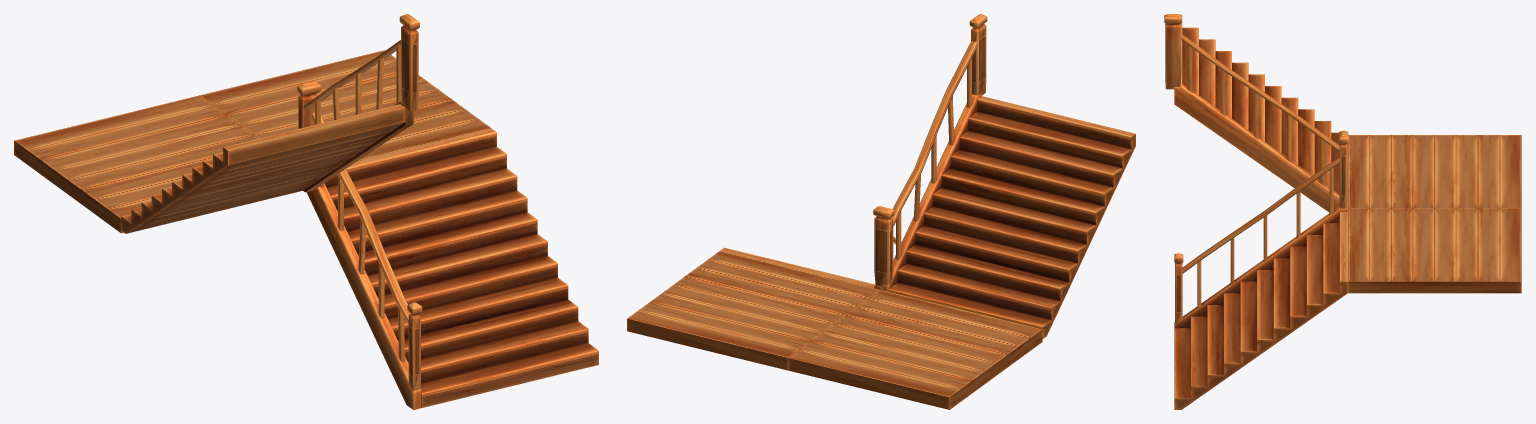
The model's file is PropStairs01TypeA.FBX.
3 views of the same model, side by side, from view 1: azimuth 30°, elevation 25°; view 2: azimuth 150°, elevation 25°; view 3: azimuth 270°, elevation 25° (orthographic). The views are drawn at different scales.
Parts seen in each view (by area): view 1: PropStairs01TypeA; view 2: PropStairs01TypeA; view 3: PropStairs01TypeA.
Part boxes in pixels (x1=…): PropStairs01TypeA: x1=14, y1=14, x2=598, y2=409; PropStairs01TypeA: x1=627, y1=14, x2=1135, y2=409; PropStairs01TypeA: x1=1164, y1=14, x2=1521, y2=409.
Size of what is drawn, in the model's own units: 4.5 by 4.58 by 4.63.
